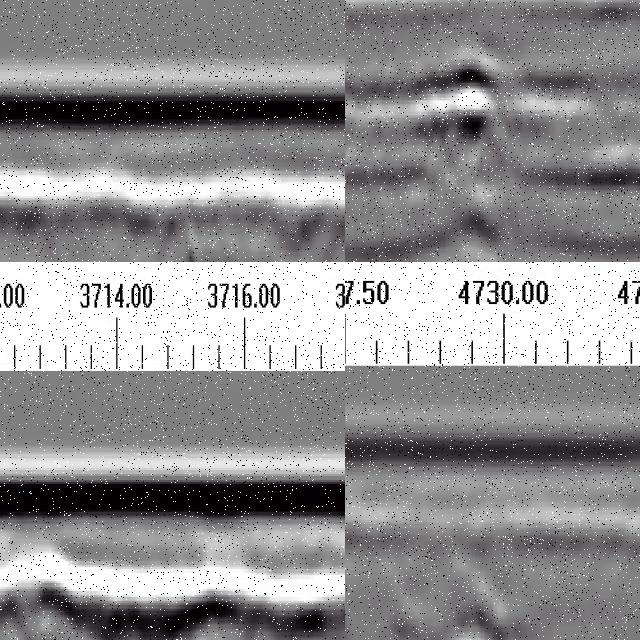loose: (346, 60, 584, 208), (71, 168, 346, 263), (1, 556, 227, 640), (346, 573, 521, 640)
